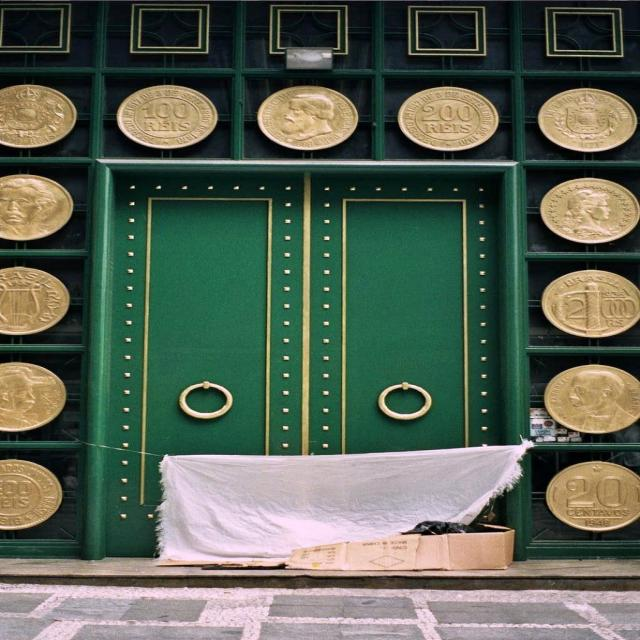Coin: (107, 82, 224, 154), (247, 82, 363, 152), (530, 84, 639, 154), (537, 362, 639, 435), (533, 177, 639, 244), (399, 84, 502, 152), (543, 459, 639, 531), (543, 271, 639, 336), (0, 79, 78, 154), (0, 455, 67, 532), (0, 353, 67, 429), (0, 171, 75, 238), (0, 267, 73, 333)
